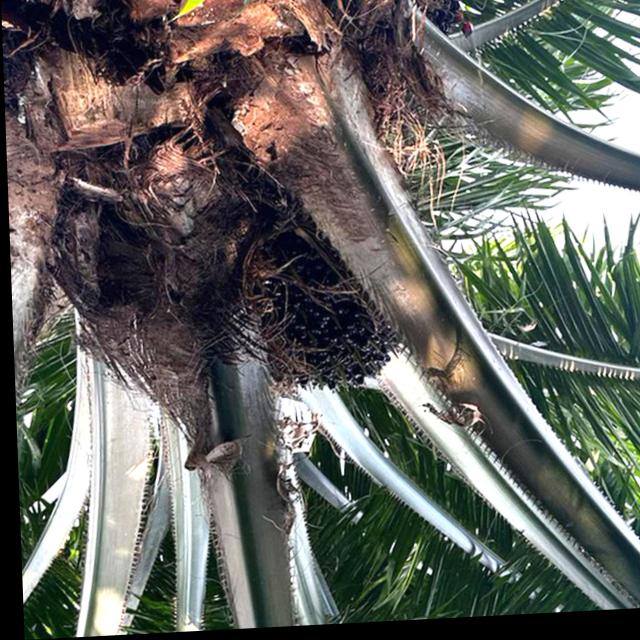ripe: (251, 248, 404, 412)
